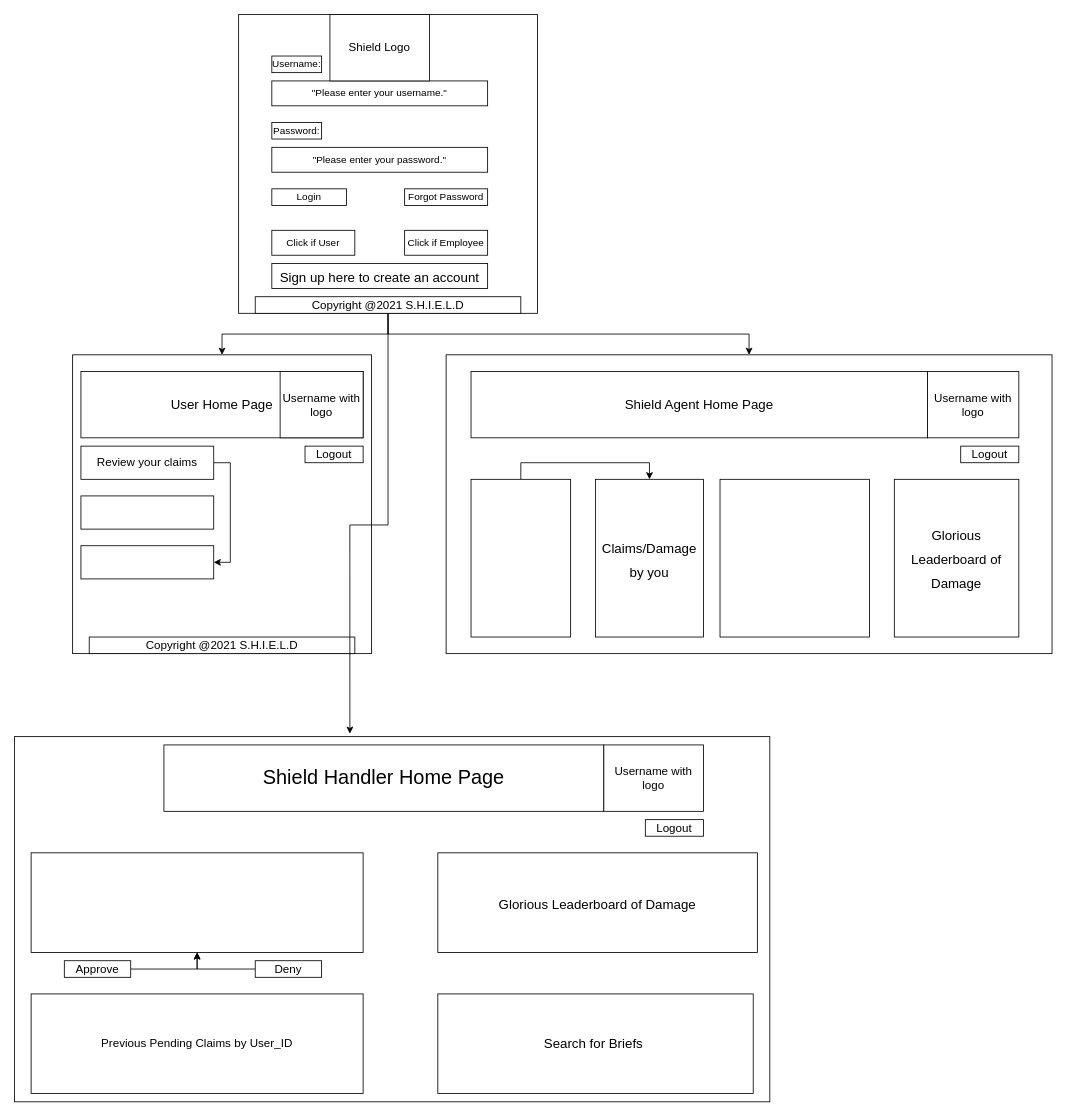
The diagram is 1067 pixels wide and 1116 high, and some of its shapes have lost their labels. The centre of each missing label's shape, as x and y in pixels:
Pending Claims: the point at 196,902
Submit brand new claim: the point at 147,512
View the pending claims: the point at 520,557
View the statistics by agent: the point at 794,557
View your own claims: the point at 147,562
